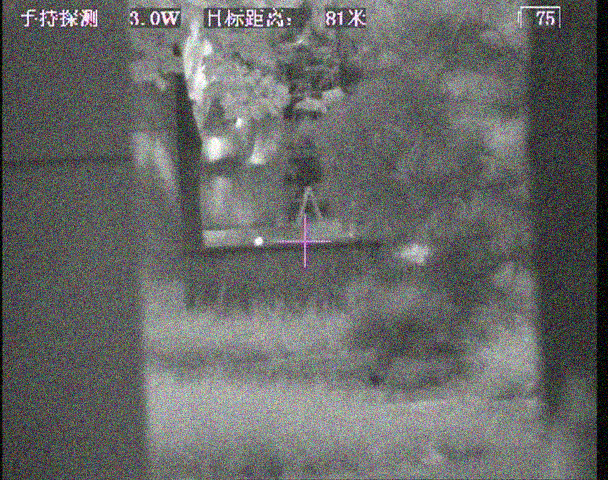my: (253, 235, 264, 246)
